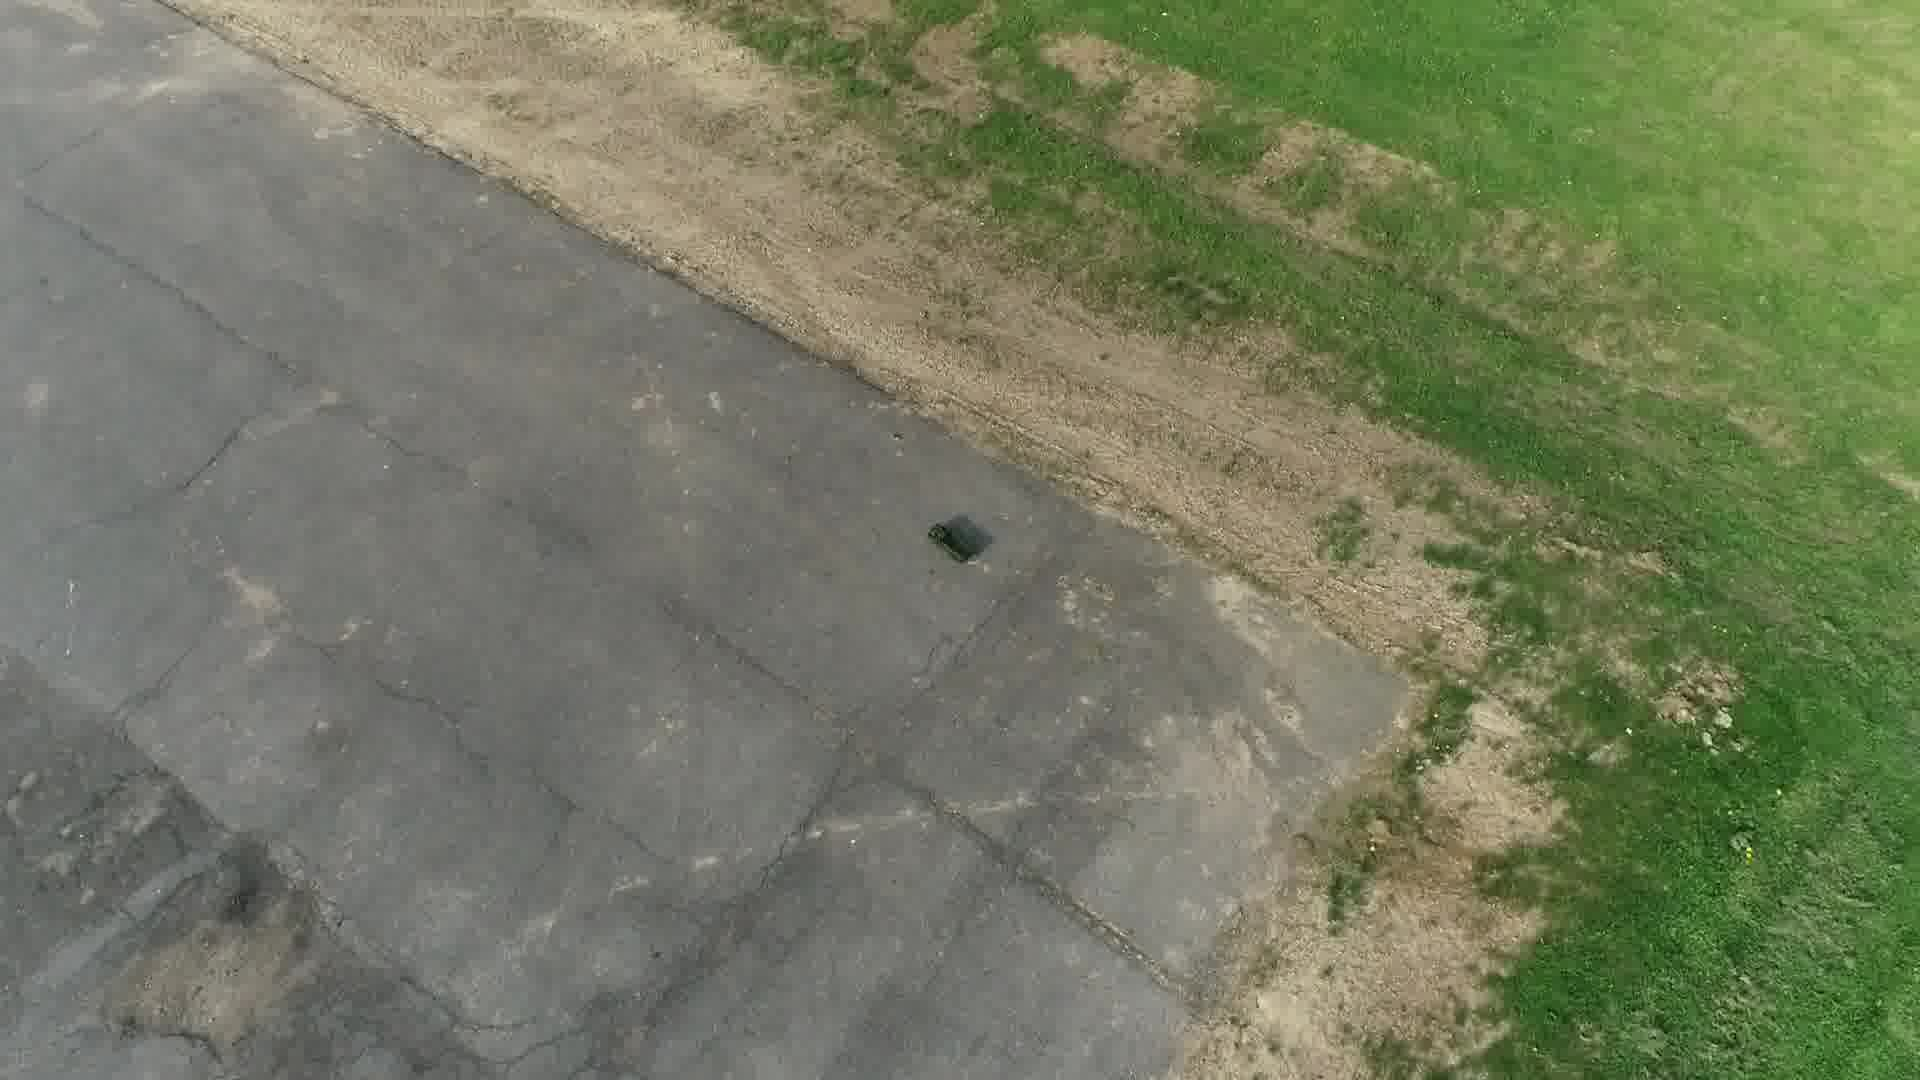transporter9: (923, 520, 976, 568)
